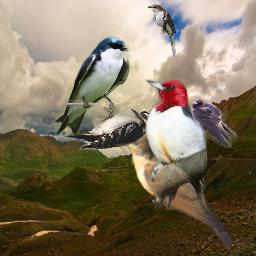Cuckoo: (114, 131, 232, 248), (147, 4, 176, 59)
Swallow: (53, 36, 130, 136), (190, 98, 237, 148)
Woodpecker: (142, 79, 209, 214), (64, 107, 161, 153)
